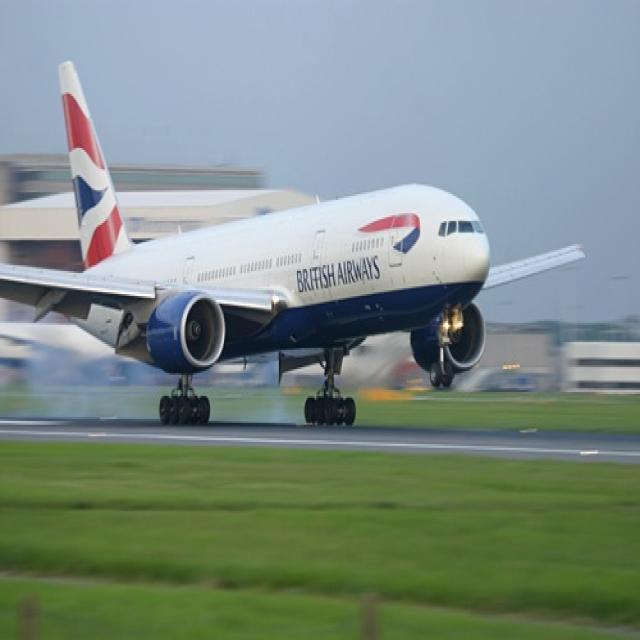aeroplane: (1, 61, 586, 430)
